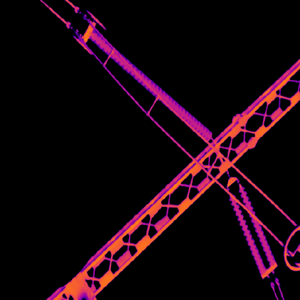insulator: (90, 30, 211, 141), (237, 182, 276, 267), (229, 190, 265, 274)
